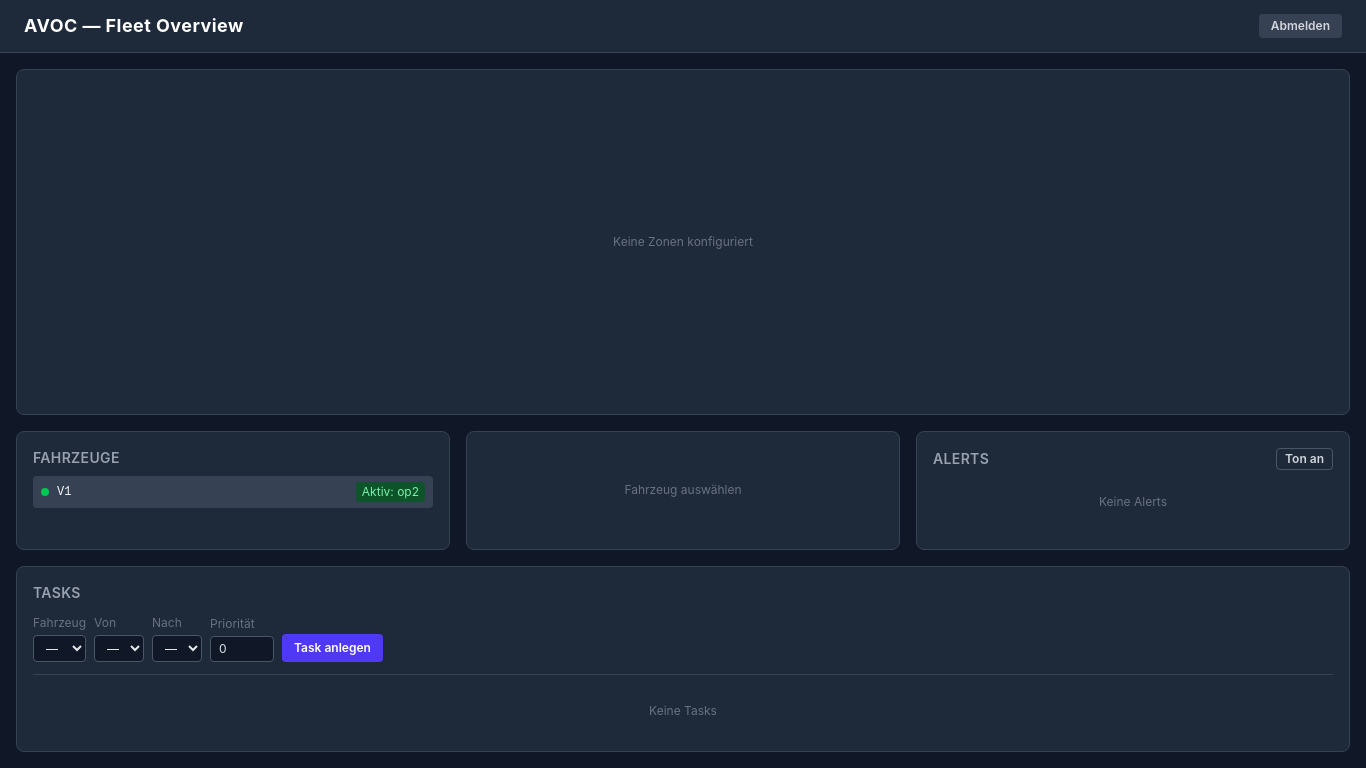
FleetOverview › leitet hasActiveOperator korrekt aus activeSessions für das ausgewählte Fahrzeug ab
Click the button "V1 Aktiv: op2" at x=390, y=492, box [33,476,433,508]
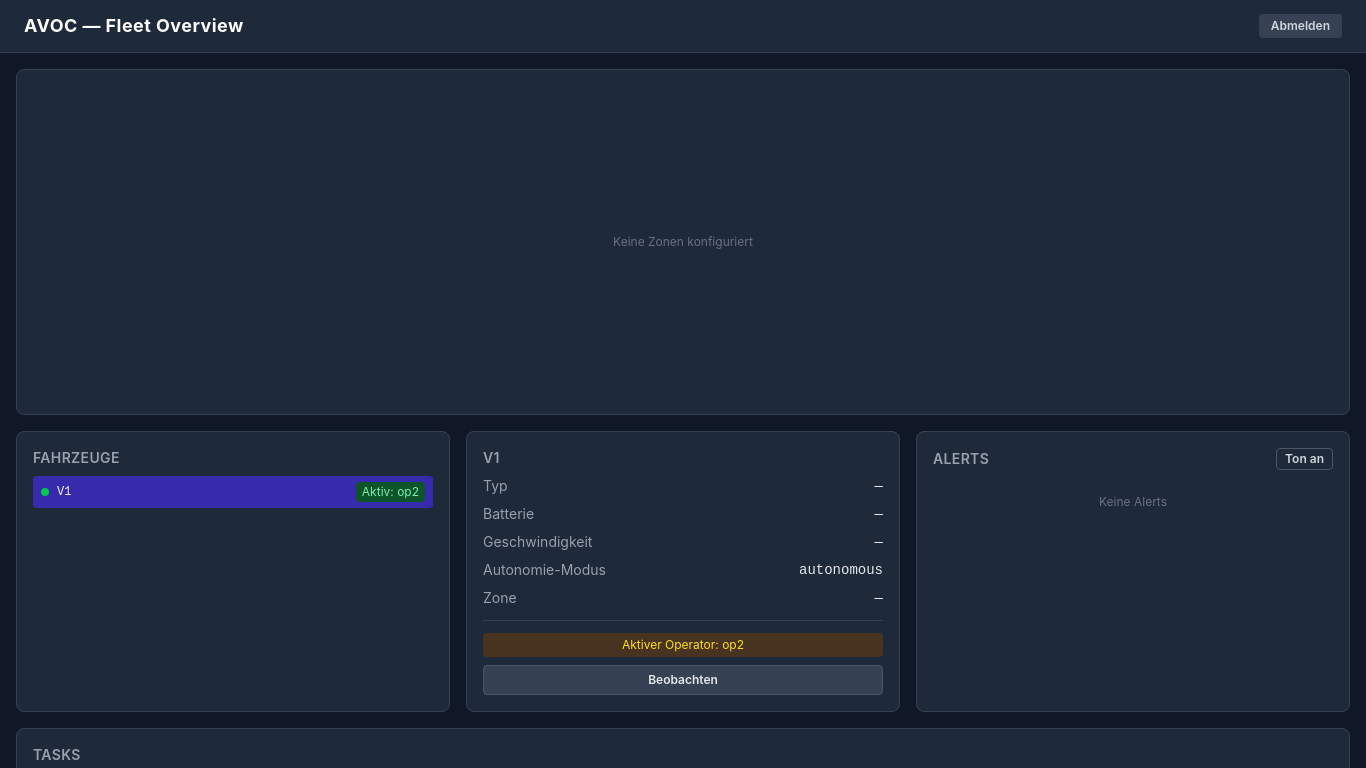
Now the text "Aktiver Operator: op2" is shown, box [483,633,883,657]
